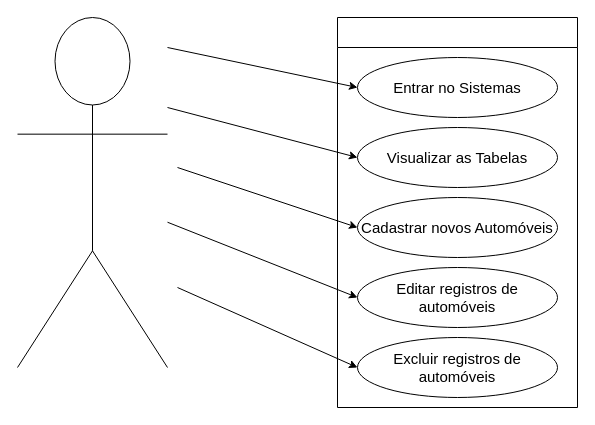
This 595x425 diagram has some shape labels left out. Here are the shapes that lost their labels. From the top down, the box of each, then its label:
(16, 16, 168, 368): Usuario
(336, 16, 578, 408): Sistema de gerenciamento de vendas de automóveis
